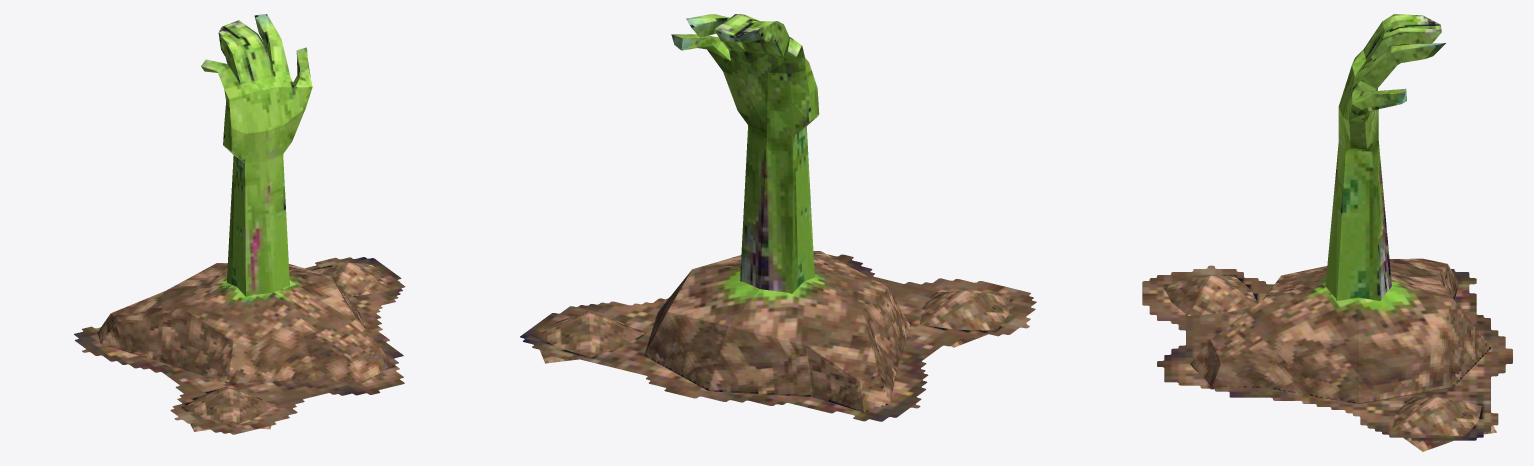
Rendered from Zombie_hand.fbx.
The picture shows the model from 3 angles, left to right: view 1: azimuth 30°, elevation 25°; view 2: azimuth 150°, elevation 25°; view 3: azimuth 270°, elevation 25°; orthographic projection. The views are drawn at different scales.
Visible parts, largest first — view 1: zombie_ground.001, zombie_hand; view 2: zombie_ground.001, zombie_hand; view 3: zombie_ground.001, zombie_hand.
Boxes of the visible parts, x1=… form: zombie_ground.001: x1=74, y1=257, x2=405, y2=434; zombie_hand: x1=201, y1=14, x2=312, y2=296; zombie_ground.001: x1=520, y1=251, x2=1036, y2=421; zombie_hand: x1=671, y1=14, x2=819, y2=293; zombie_ground.001: x1=1142, y1=258, x2=1512, y2=451; zombie_hand: x1=1325, y1=14, x2=1445, y2=300.
Size of the model in its own units: 199 by 161 by 169.
